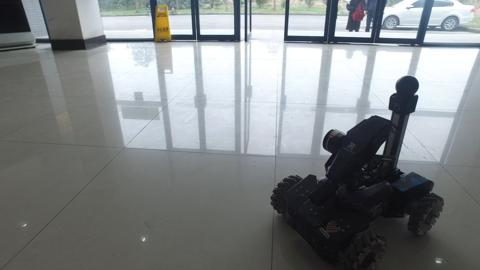car: (377, 1, 476, 32)
chariot: (268, 73, 445, 269)
